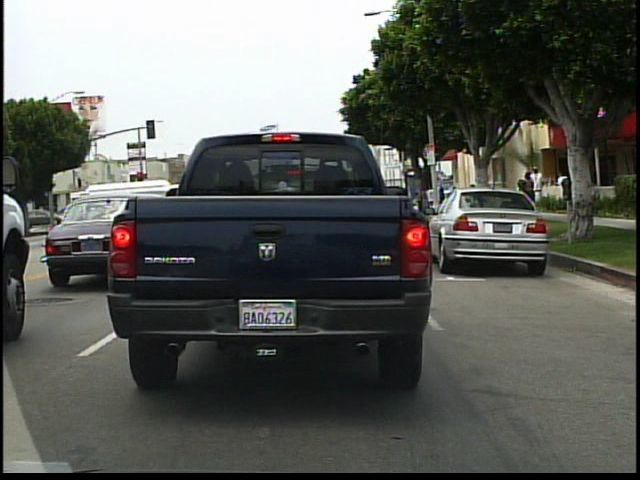person: (553, 168, 574, 215), (478, 174, 496, 215)
